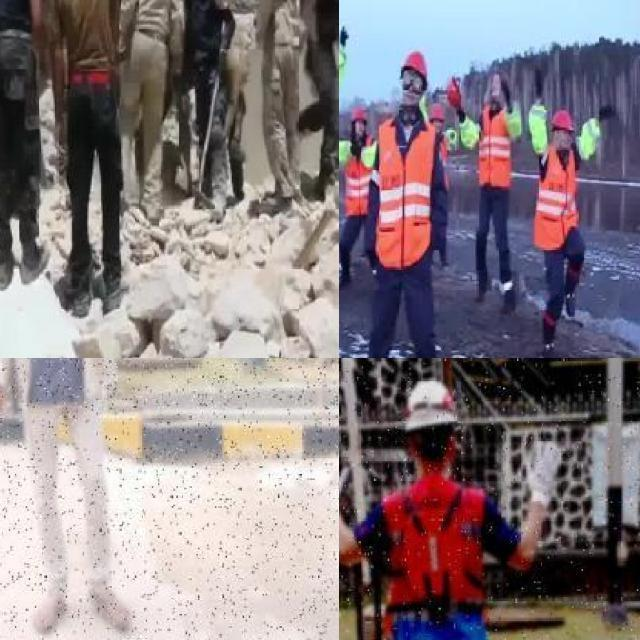apron: (524, 436, 564, 509), (339, 436, 353, 509), (596, 96, 614, 125), (535, 70, 544, 100), (339, 23, 349, 46), (457, 106, 465, 120), (506, 90, 512, 106)
